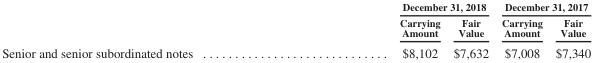table: (1, 0, 590, 59)
table column: (1, 0, 295, 59), (295, 0, 446, 59), (494, 0, 548, 59), (446, 0, 494, 59), (548, 0, 590, 59)
table column header: (1, 0, 590, 41)
table row: (1, 14, 590, 41), (1, 41, 590, 59), (1, 0, 590, 14)
table spanning cell: (295, 0, 494, 14), (494, 0, 590, 14)
